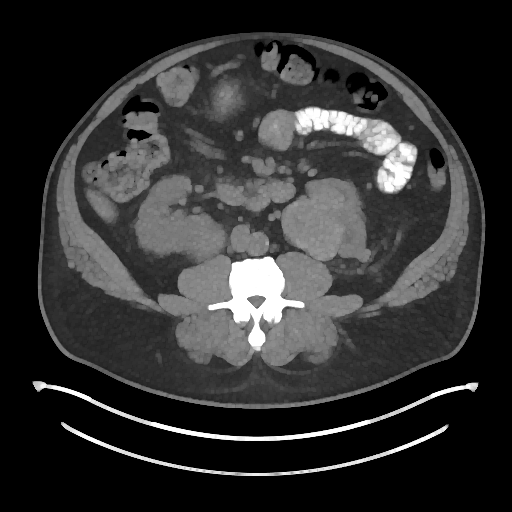Lesion: (279, 201, 345, 262)
